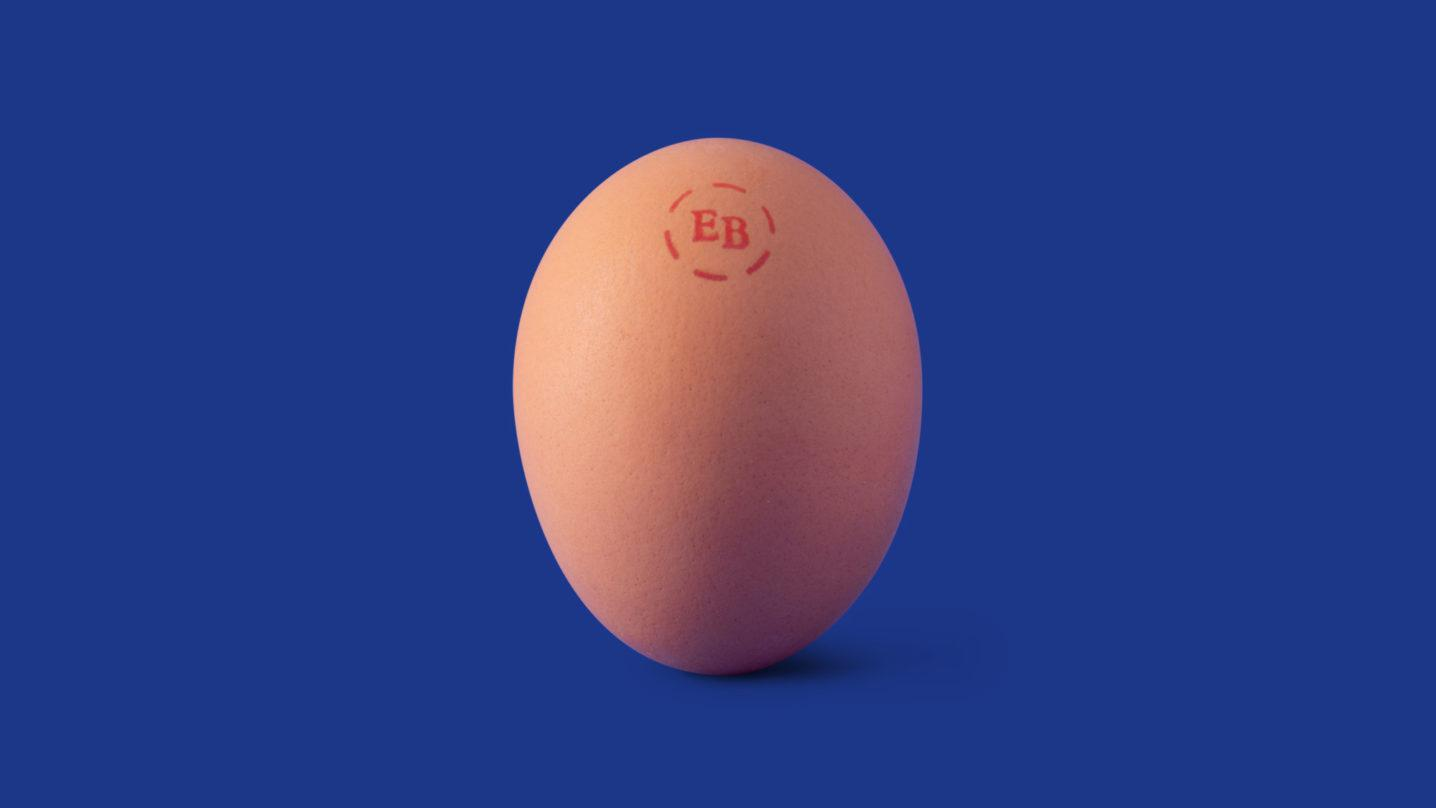egg: (506, 130, 928, 682)
